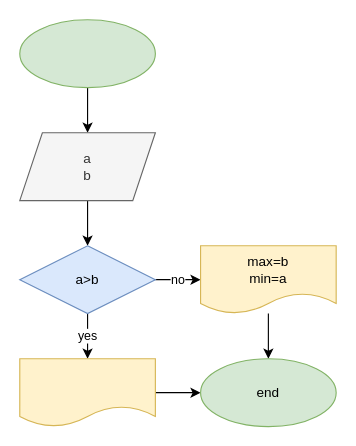
Some shapes in this 356 by 446 pixel diagram are drawn without their labels. Here are the shapes that lost their labels. From the top down, the centre of each, then its label:
At [87,53]: "start".
At [87,392]: "max=a min=b".
